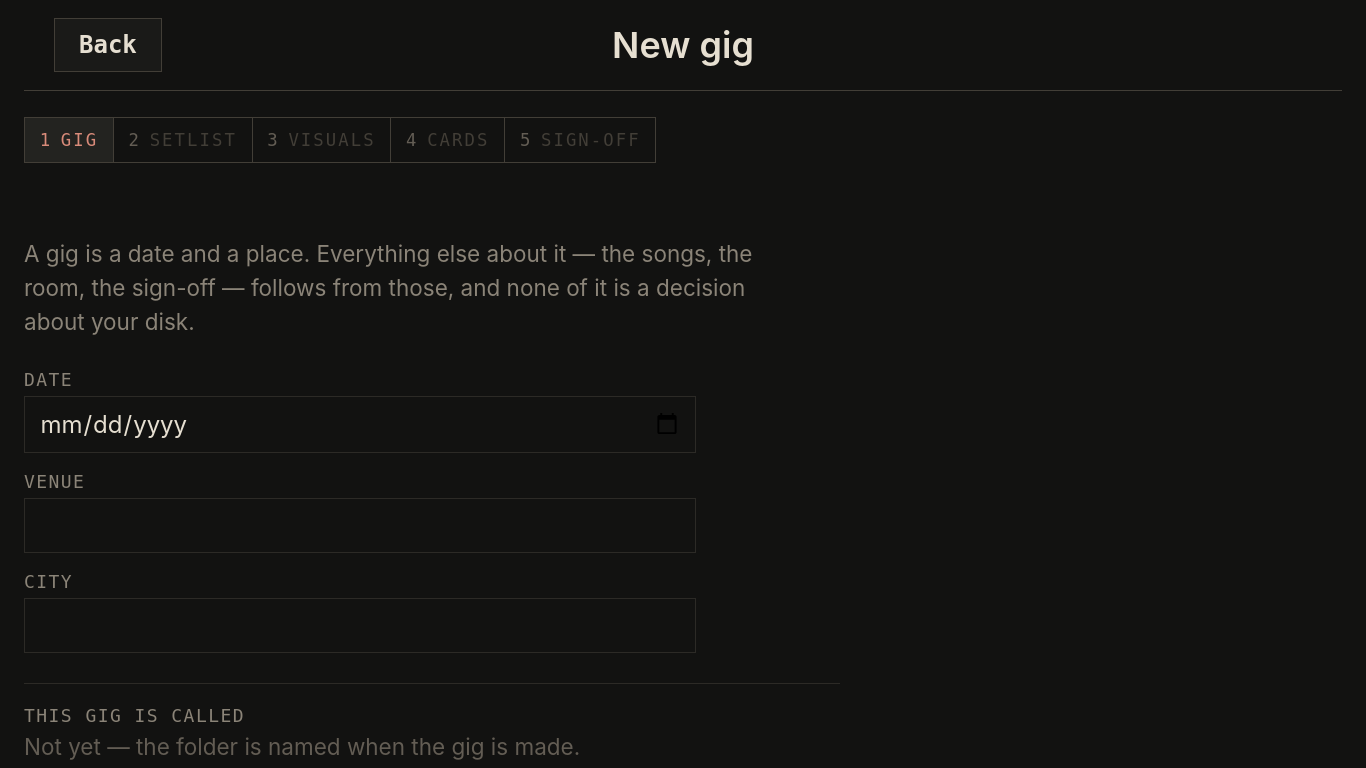
Scenario: leaving the gig flow › asks, names what goes, and offers to stay
In the date field with test id "gig-flow-date": coordinates (360, 424) [24,396,696,453], type "2026-05-16"
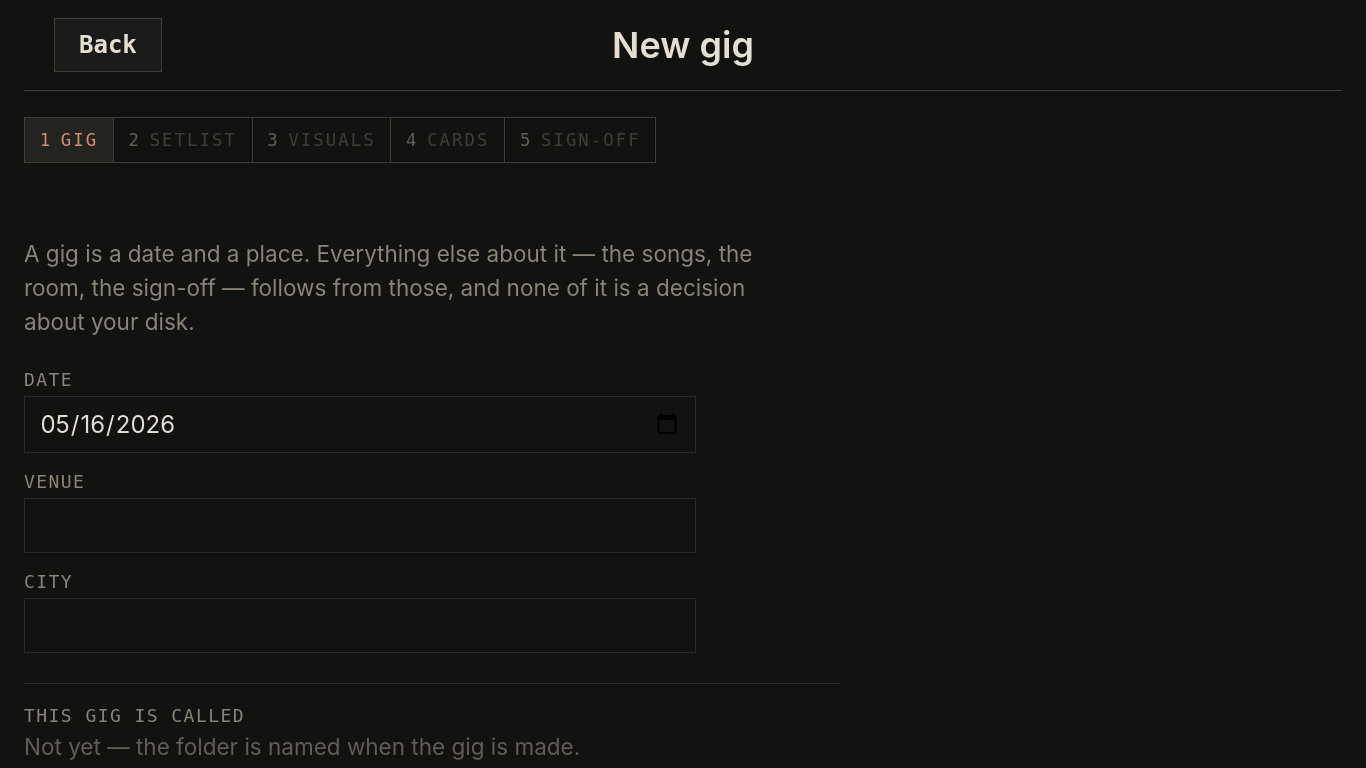
In the field with test id "gig-flow-venue": coordinates (360, 525) [24,498,696,553], type "BOM Festival"
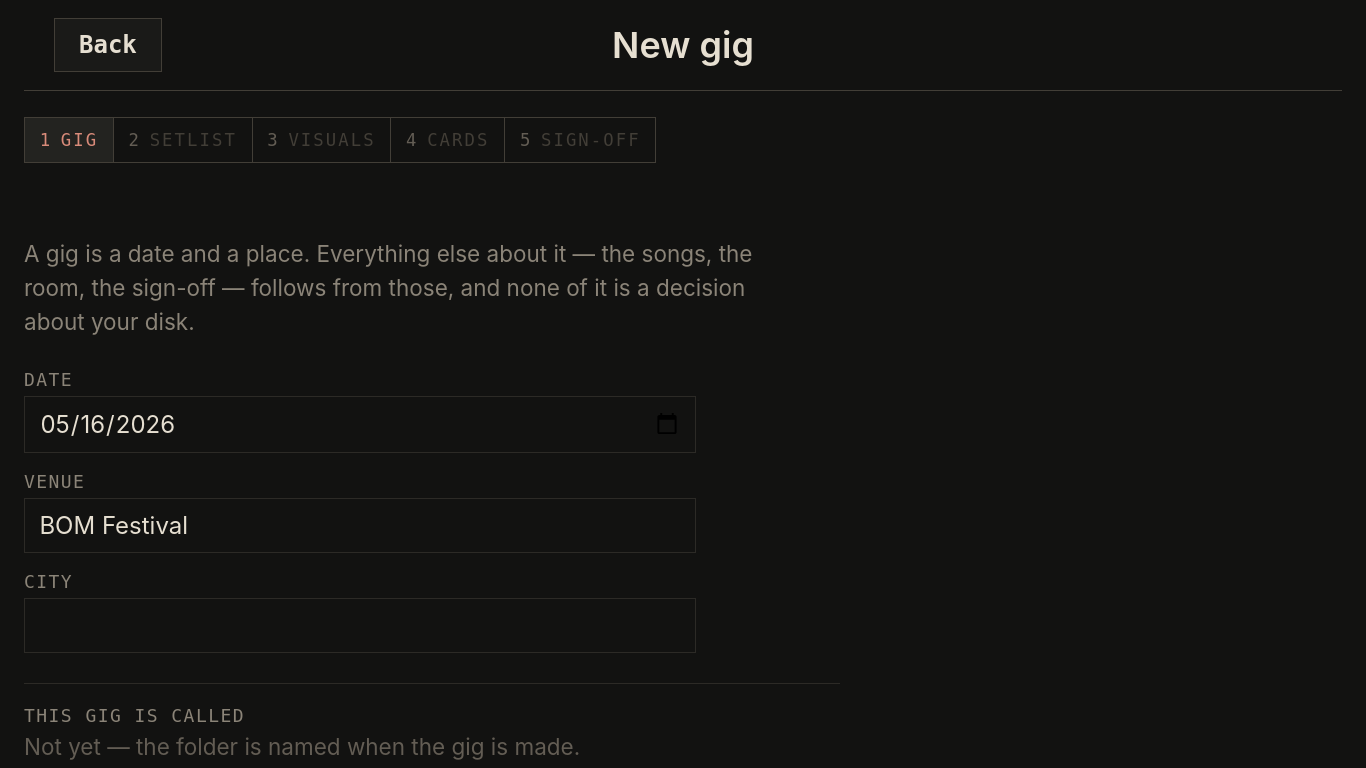
In the field with test id "gig-flow-city": coordinates (360, 625) [24,598,696,653], type "Brussels"
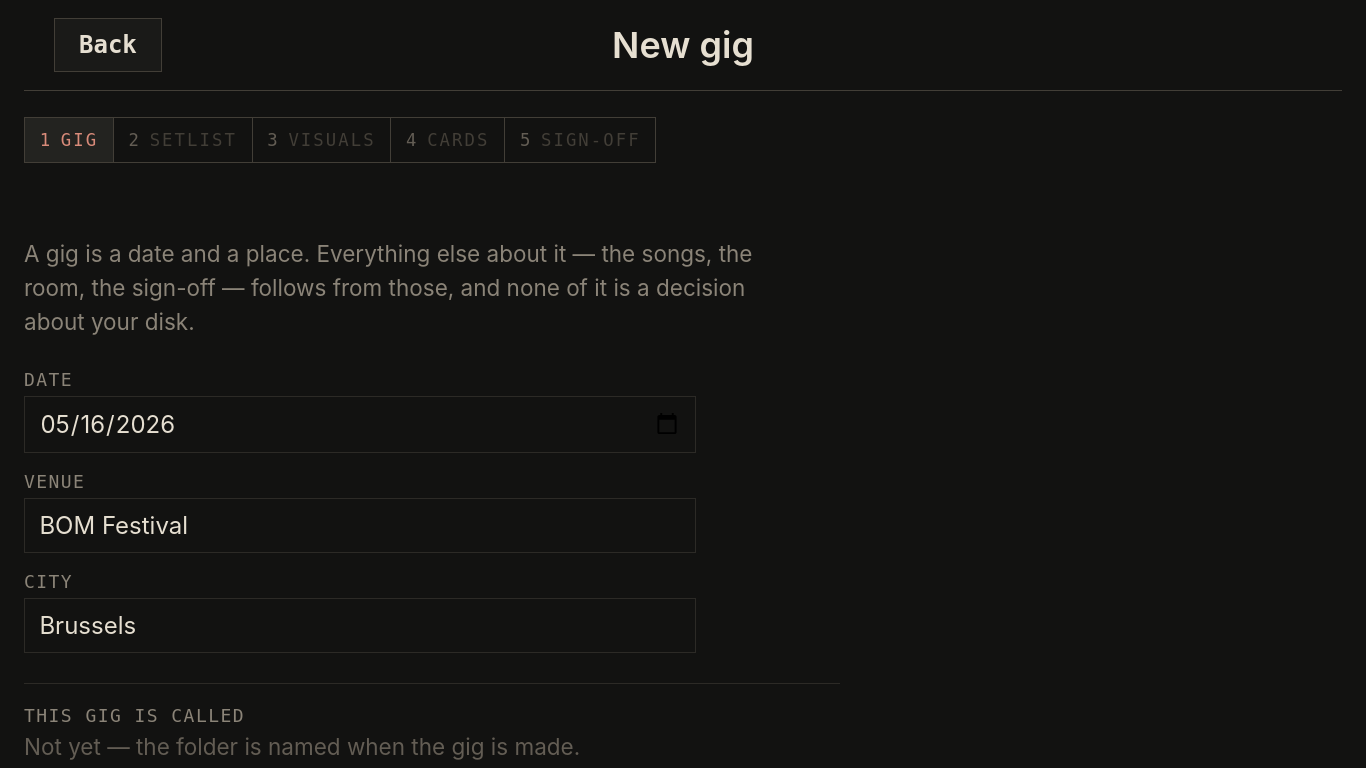
Click the button with test id "gig-flow-leave": coordinates (108, 45) [54,18,162,72]
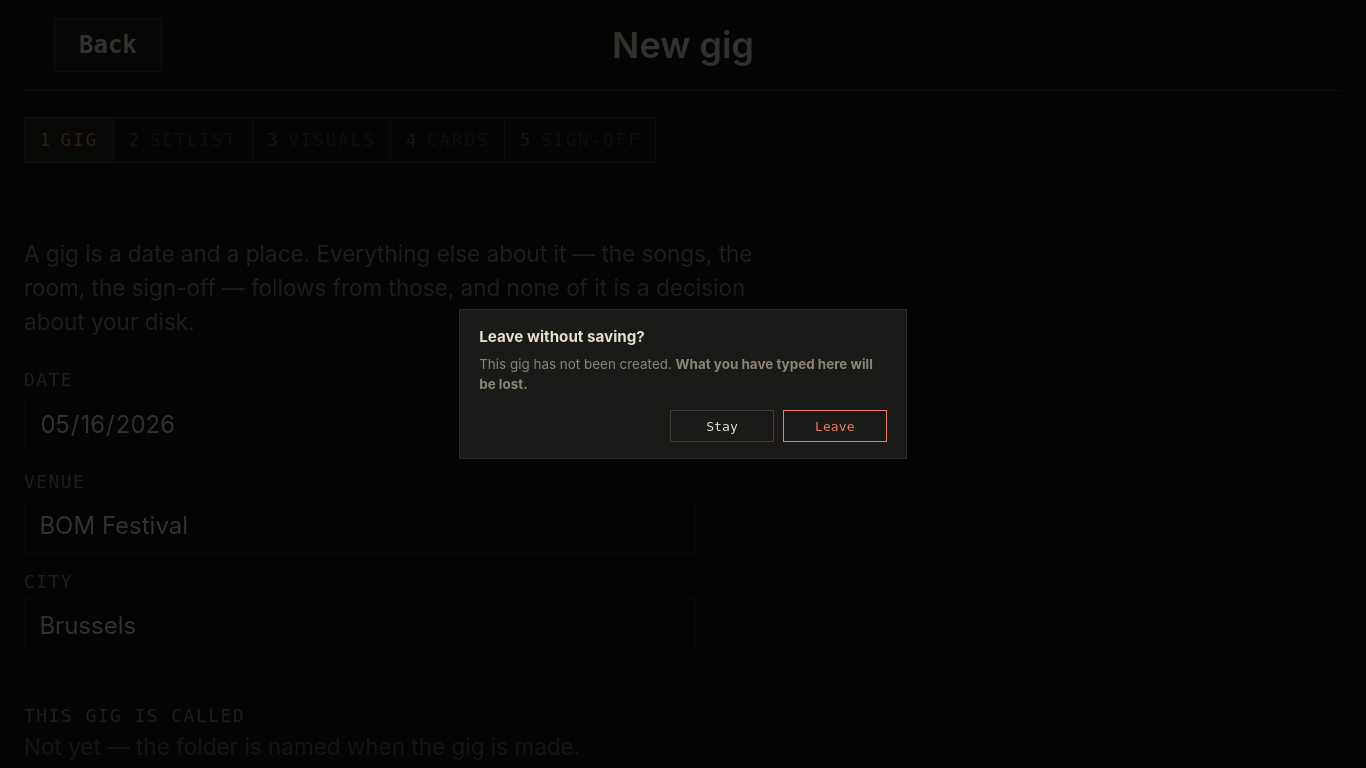
Now the text with test id "gig-flow-leave-title" reads "Leave without saving?", box [479,327,645,346]
Now the element with test id "gig-flow-leave-what" shows "This gig has not been created.", box [479,356,672,372]
Now the element with test id "gig-flow-leave-what" shows "What you have typed here will be lost.", box [479,356,873,392]
Click the button with test id "gig-flow-leave-stay": coordinates (722, 426) [670,410,774,442]
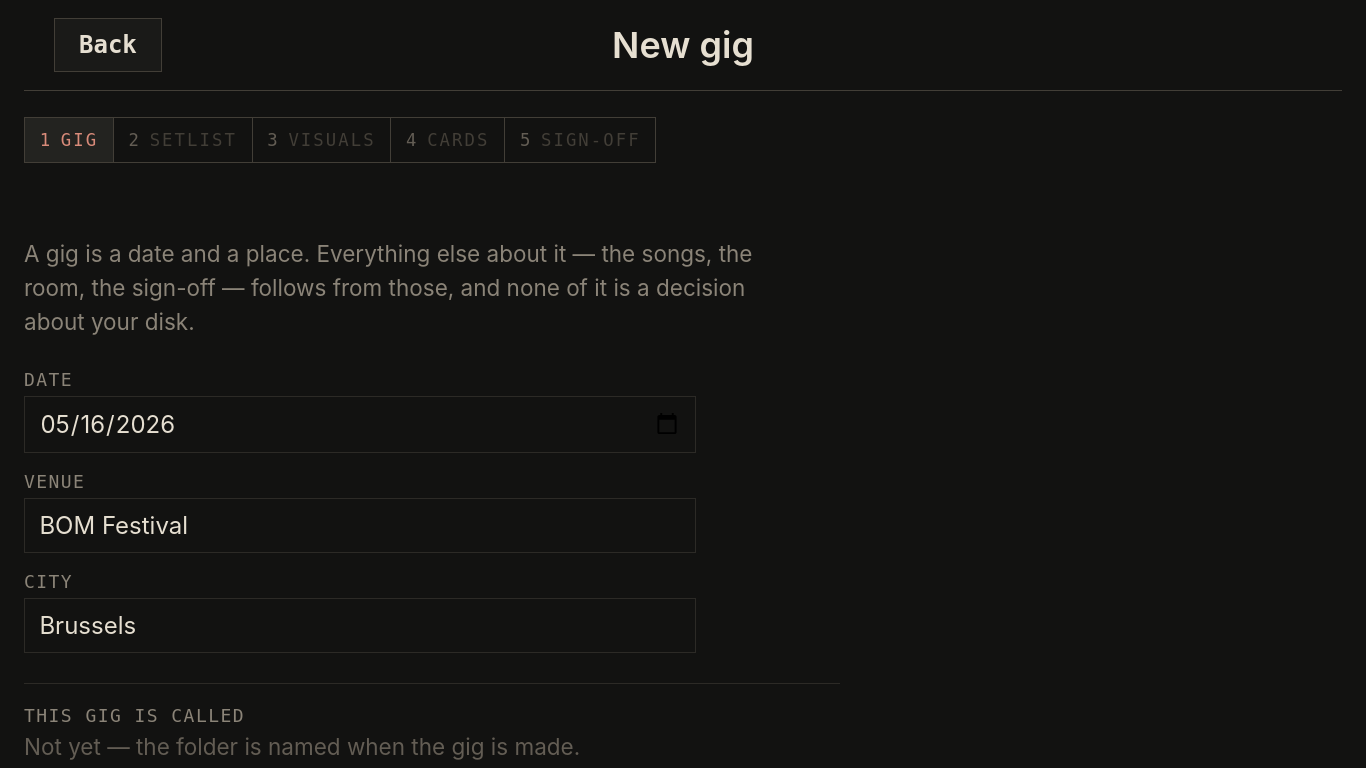
Now the element with test id "gig-flow-leave-popup" is gone
